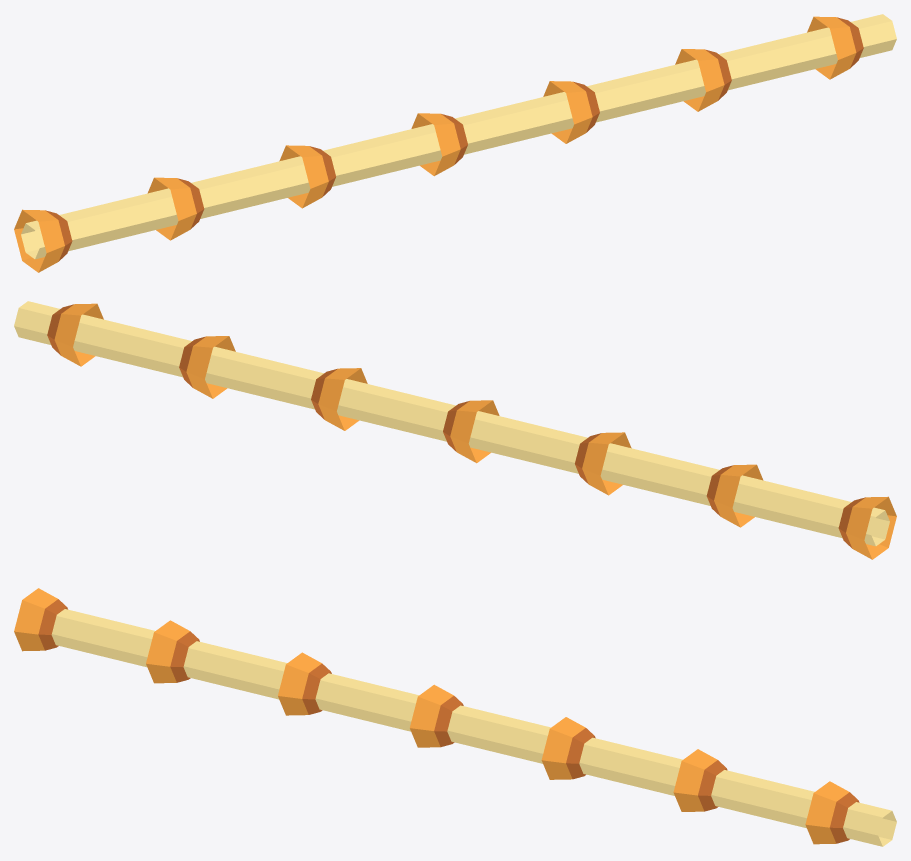
Rendered from e3-plumb-beam.glb.
3 renders of one model, top to bottom at view 1: azimuth 30°, elevation 25°; view 2: azimuth 150°, elevation 25°; view 3: azimuth 330°, elevation 25°, orthographic.
Parts seen in each view (by area): view 1: e3-plumb-beam; view 2: e3-plumb-beam; view 3: e3-plumb-beam.
Part boxes in pixels (left/top/right/bottom): e3-plumb-beam: left=14, top=14, right=896, bottom=272; e3-plumb-beam: left=14, top=301, right=896, bottom=559; e3-plumb-beam: left=14, top=588, right=896, bottom=846.
Bounding box in the file's own units: 1 × 0.0571 × 0.0659.
